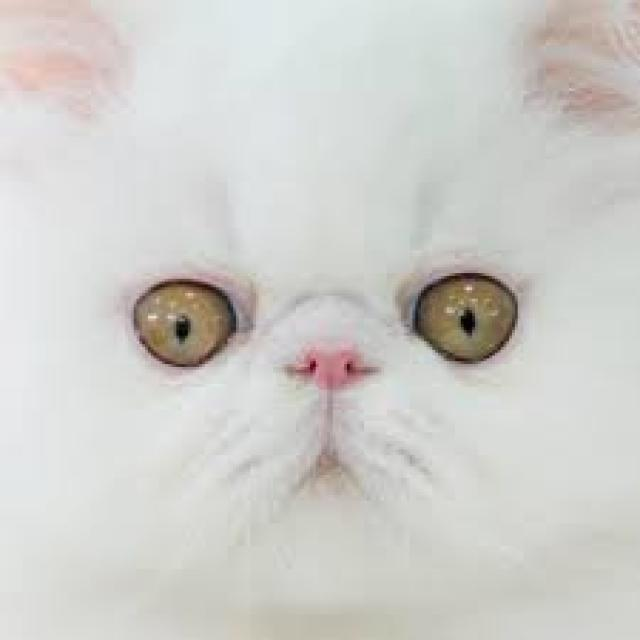cat: (62, 109, 603, 594)
